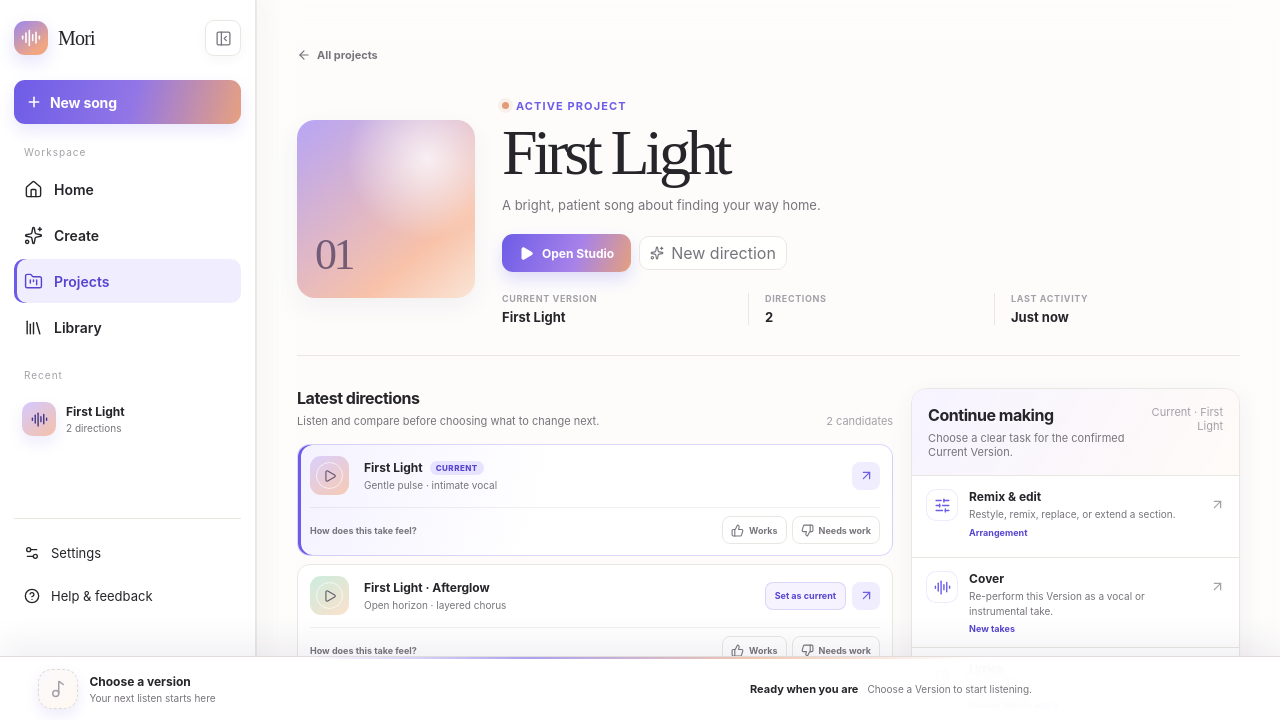
Test: Mori Project Current Version › keeps the confirmed Project Current when another client commits first
Click the button with aria-label "Set First Light · Afterglow as current": (805, 596) [765,582,846,610]
(page scrolled)
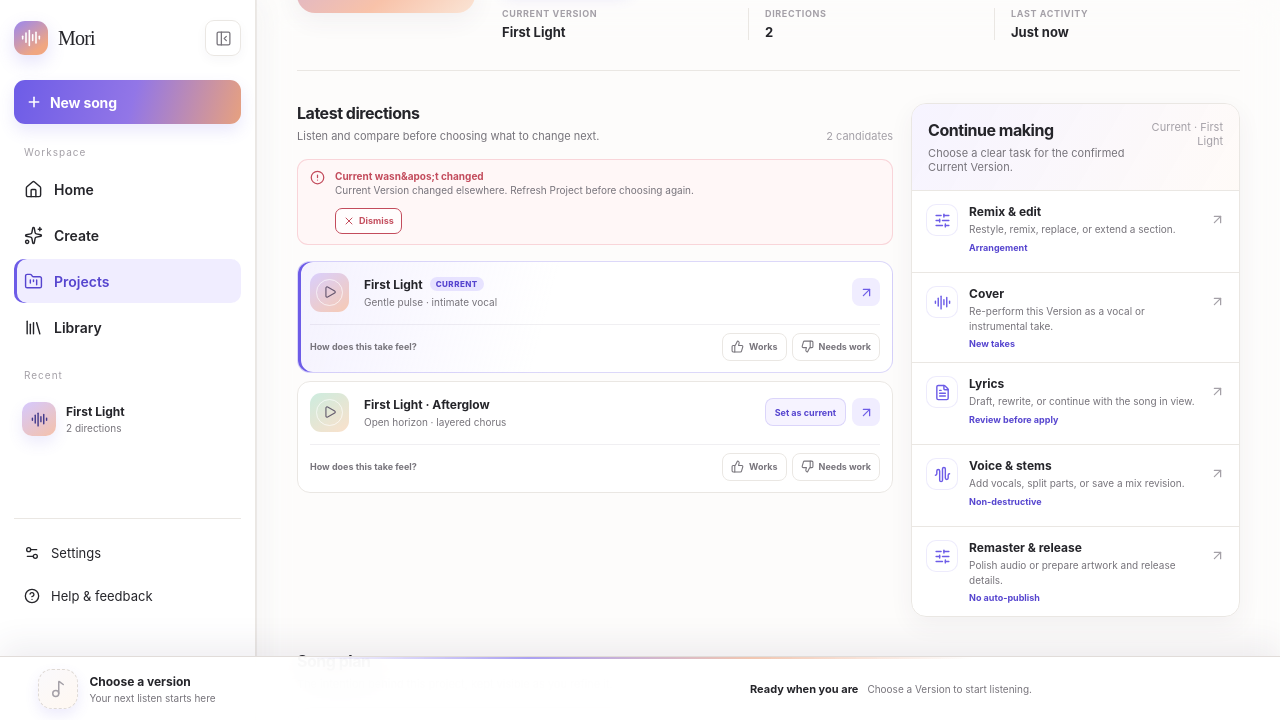
expect the element named "First Light, current version" shows "Current": met, box [436,279,478,289]
expect the message that starts with "Current wasn&apos;t changed" shows "Current Version changed elsewhere. Refresh Project before choosing again.": met, box [335,184,694,196]
